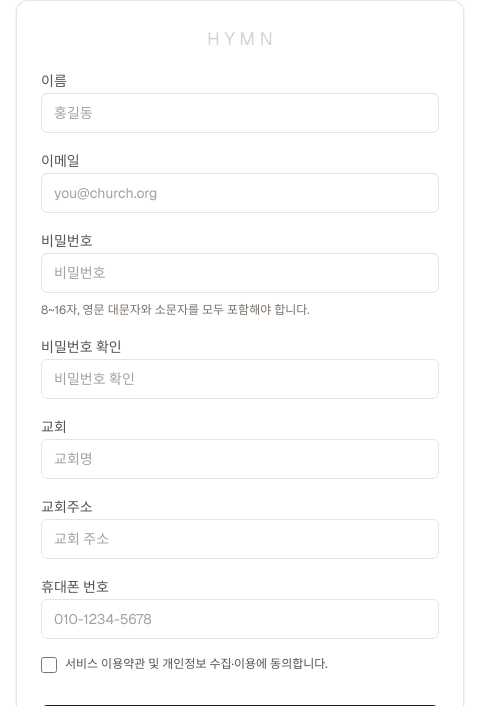
Test: 회원가입 이메일 자동 조회 › 쓸 수 있는 주소면 사용 가능 안내를 보여줘야 한다
Type "free@example.com" into the field labelled "이메일" at point(240, 193), box [41,173,439,213]
Wait 1000 ms
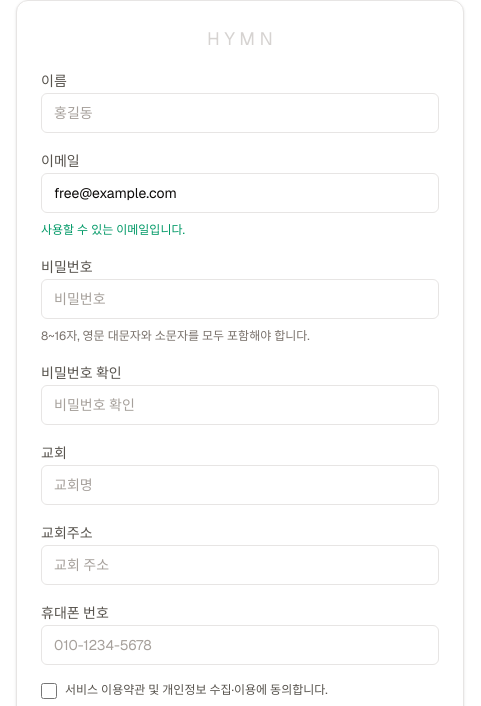
Expected: the text "사용할 수 있는 이메일입니다." is shown, [41,222,185,238]
